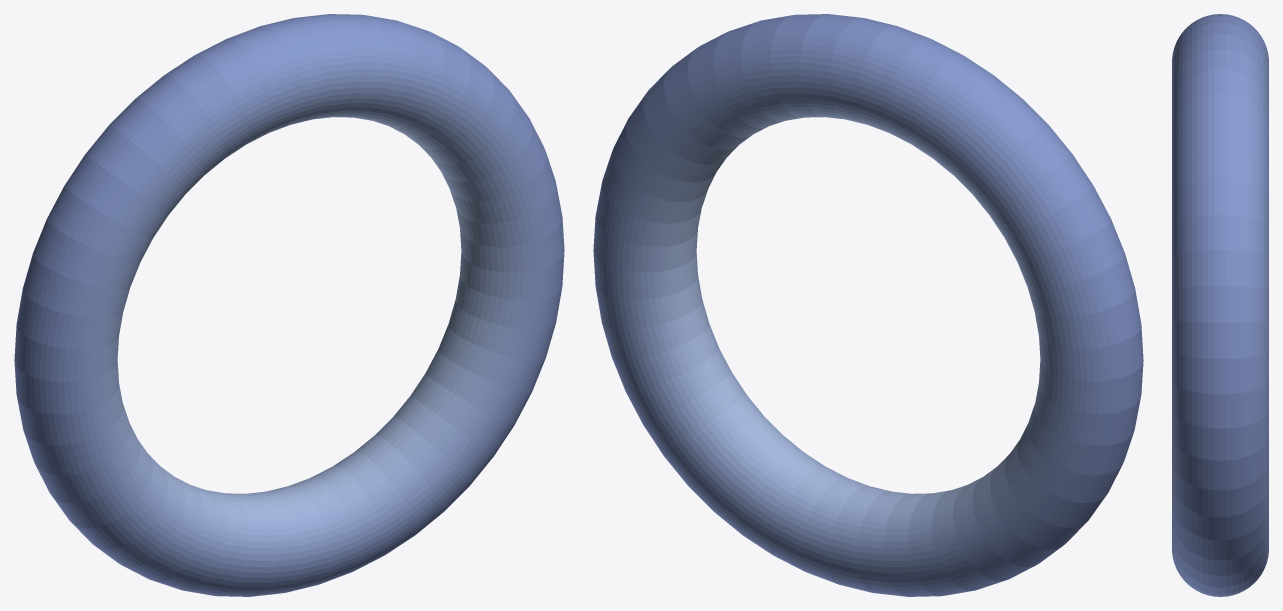
3 views of the same model, side by side, from view 1: azimuth 30°, elevation 25°; view 2: azimuth 150°, elevation 25°; view 3: azimuth 270°, elevation 25° (orthographic). The views are drawn at different scales.
Parts seen in each view (by area): view 1: world; view 2: world; view 3: world.
Boxes of the visible parts, x1,y1,x2,y2 form: world: (14, 14, 564, 596); world: (593, 14, 1143, 596); world: (1172, 14, 1268, 596).
Bounding box in the file's own units: 23.2 × 23.15 × 3.86.
